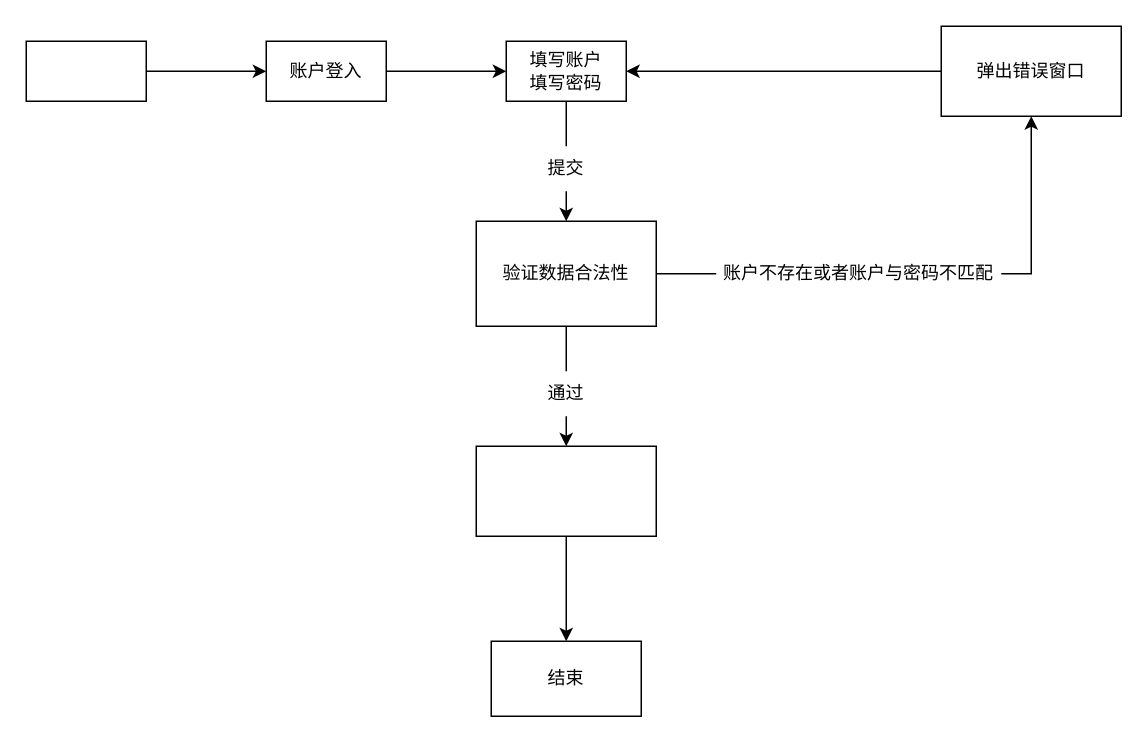
Some shapes in this 1148 by 743 pixel diagram are drawn without their labels. The shapes that lost their labels are listed below. From the top down, each one's box as (x1, y1, x2, y2) in pixels, then its label:
(25, 40, 146, 101): 开始
(475, 445, 656, 536): 进入业务界面
